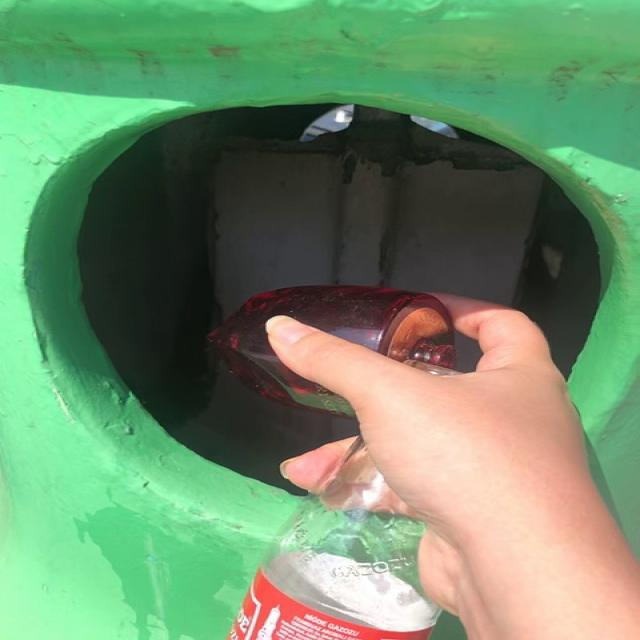glass: (227, 439, 441, 640), (209, 286, 459, 415)
